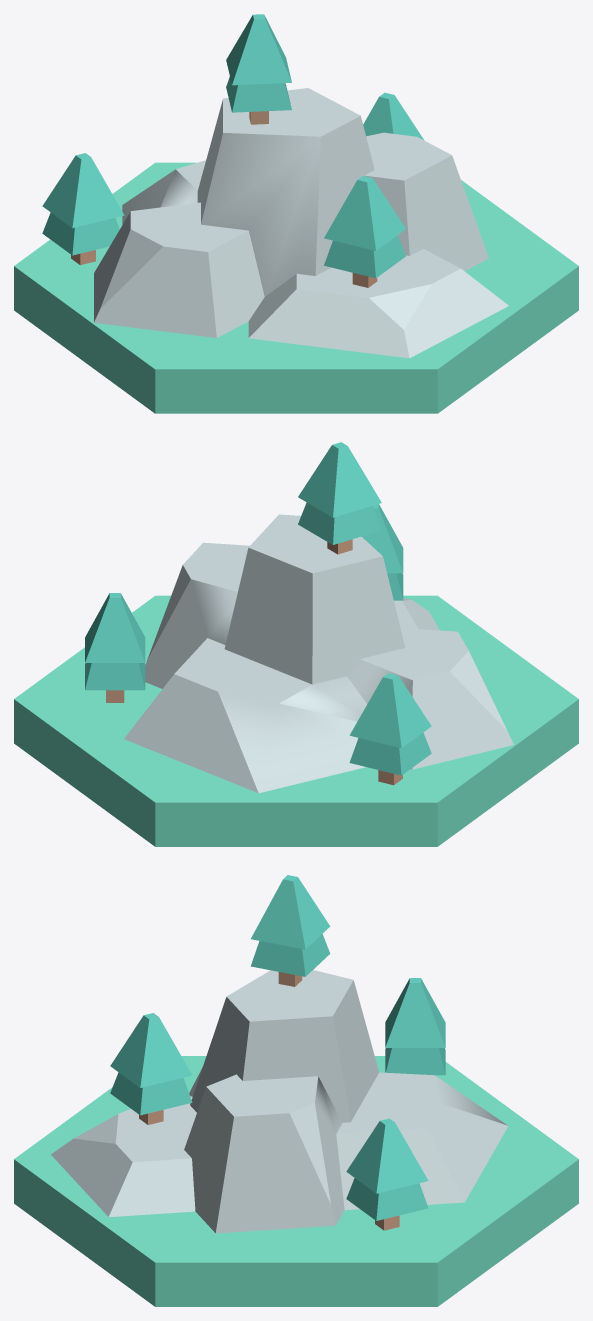
Rendered from GrassHill.fbx.
The picture shows the model from 3 angles, top to bottom: view 1: azimuth 30°, elevation 25°; view 2: azimuth 150°, elevation 25°; view 3: azimuth 270°, elevation 25°; orthographic projection.
Visible parts, largest first — view 1: grass_hill; view 2: grass_hill; view 3: grass_hill.
Boxes of the visible parts, left/top/right/bottom form: grass_hill: left=14, top=14, right=578, bottom=413; grass_hill: left=14, top=442, right=578, bottom=846; grass_hill: left=14, top=875, right=578, bottom=1306.
Bounding box in the file's own units: 100 × 68.94 × 115.
